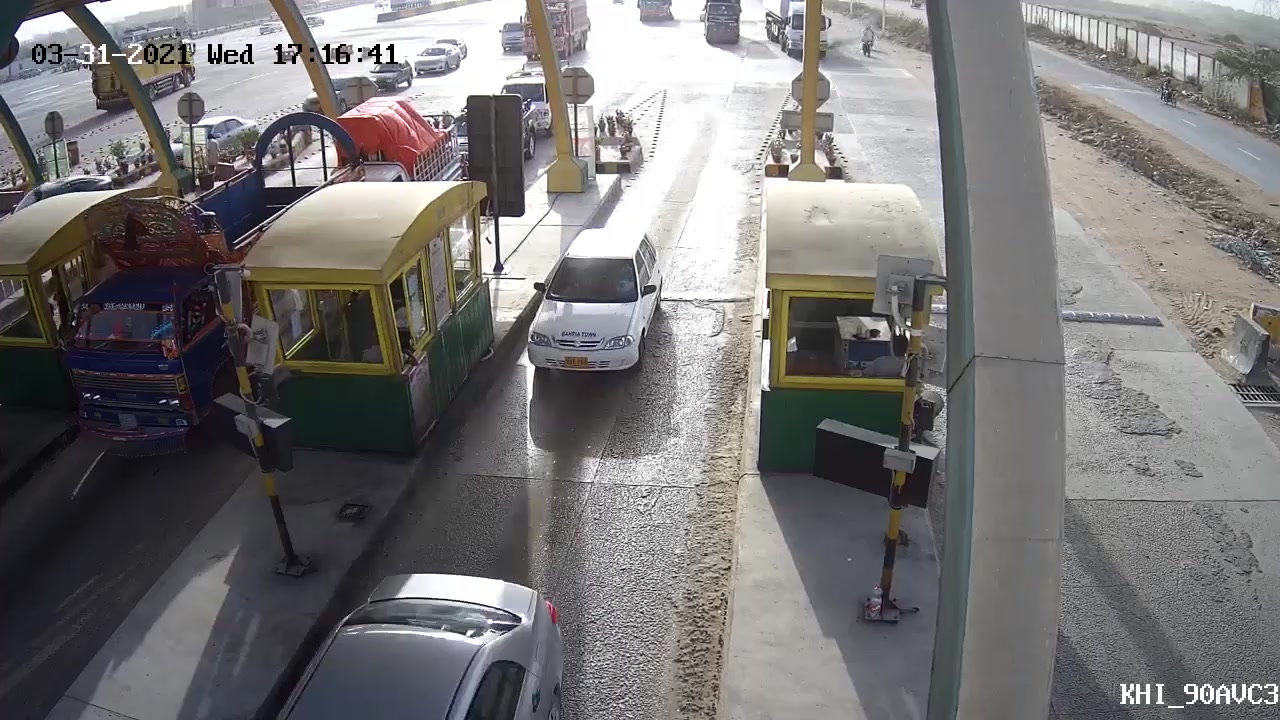F1: (508, 224, 674, 404)
